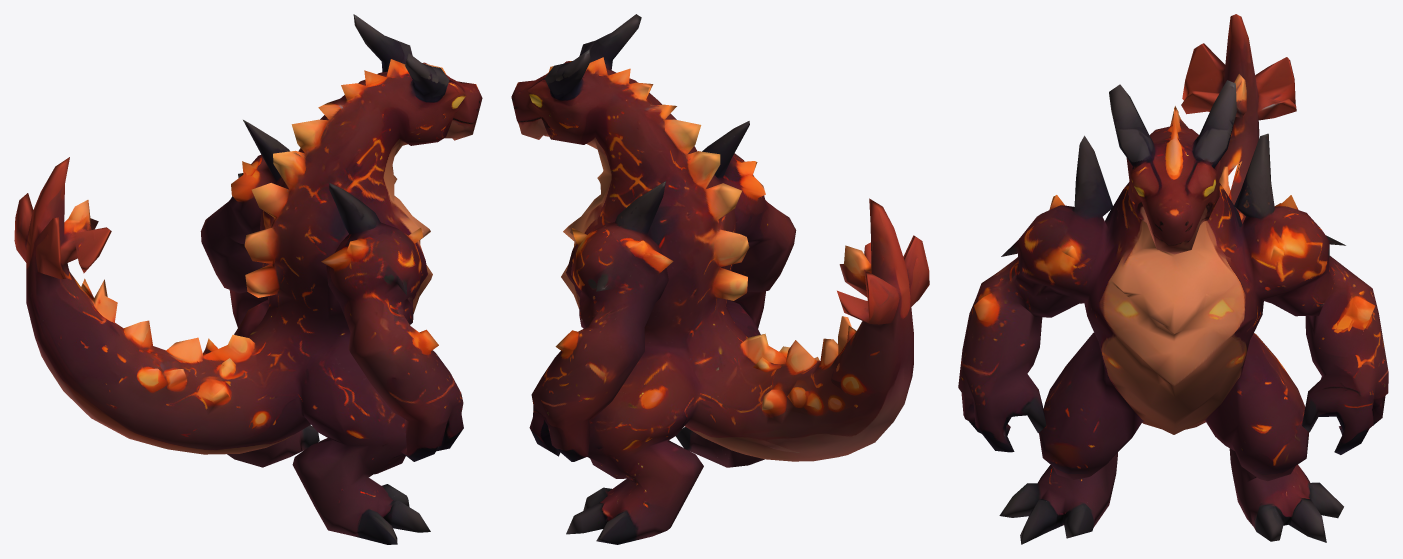
The model's file is dragon_fire.glb.
3 renders of one model, left to right at view 1: azimuth 30°, elevation 25°; view 2: azimuth 150°, elevation 25°; view 3: azimuth 270°, elevation 25°, orthographic. The views are drawn at different scales.
Visible parts, largest first — view 1: tripo_node_b94ea2c9-41b0-42d6-b2be-41263139bc97; view 2: tripo_node_b94ea2c9-41b0-42d6-b2be-41263139bc97; view 3: tripo_node_b94ea2c9-41b0-42d6-b2be-41263139bc97.
Boxes of the visible parts, x1,y1,x2,y2 form: tripo_node_b94ea2c9-41b0-42d6-b2be-41263139bc97: [14, 14, 482, 544]; tripo_node_b94ea2c9-41b0-42d6-b2be-41263139bc97: [511, 14, 929, 544]; tripo_node_b94ea2c9-41b0-42d6-b2be-41263139bc97: [958, 14, 1388, 544].
Bounding box in the file's own units: 1 × 0.9957 × 0.8171.
Materials: 1 (1 with a texture image).
